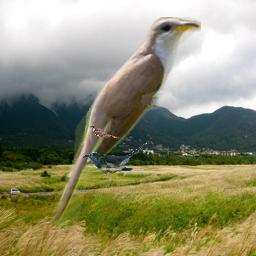Cuckoo: (48, 17, 201, 229), (83, 142, 149, 175), (89, 125, 120, 140)
